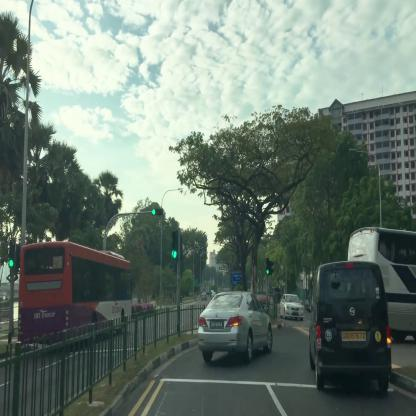green_traffic_light: (172, 232, 177, 258), (152, 209, 162, 214)
